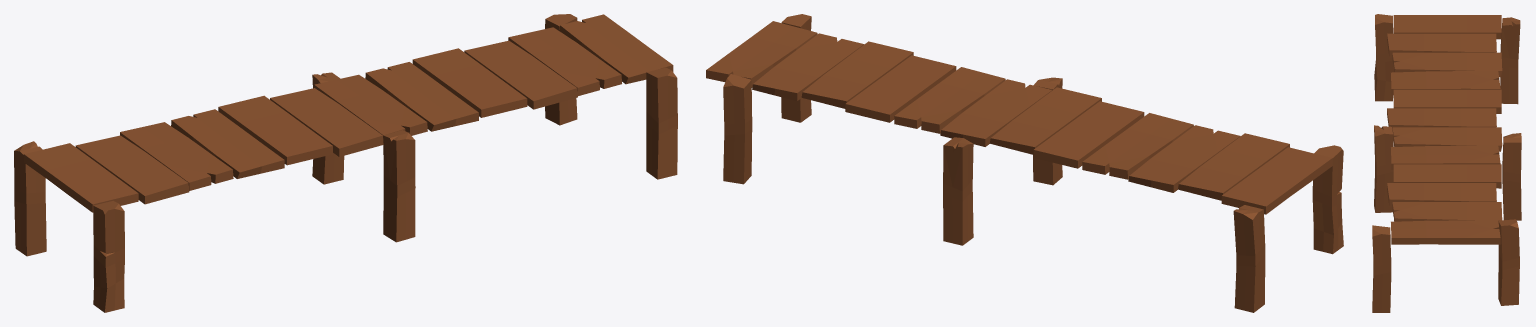
Rendered from Bridge.fbx.
3 views of the same model, side by side, from view 1: azimuth 30°, elevation 25°; view 2: azimuth 150°, elevation 25°; view 3: azimuth 270°, elevation 25° (orthographic). The views are drawn at different scales.
Parts seen in each view (by area): view 1: WoodenBridge; view 2: WoodenBridge; view 3: WoodenBridge.
Boxes of the visible parts, x1=… form: WoodenBridge: x1=14, y1=14, x2=677, y2=312; WoodenBridge: x1=706, y1=14, x2=1343, y2=312; WoodenBridge: x1=1372, y1=14, x2=1521, y2=312.
Bounding box in the file's own units: 2524 × 444 × 716.
